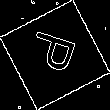P_E: (25, 30, 85, 80)
